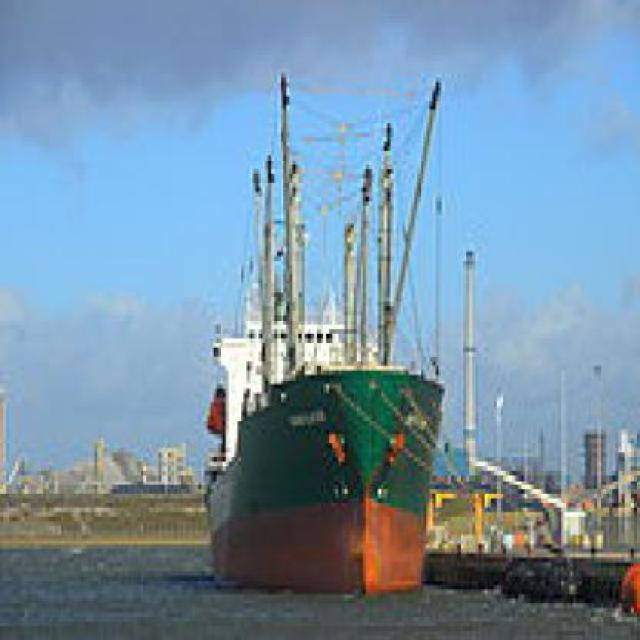container: (183, 56, 462, 604)
